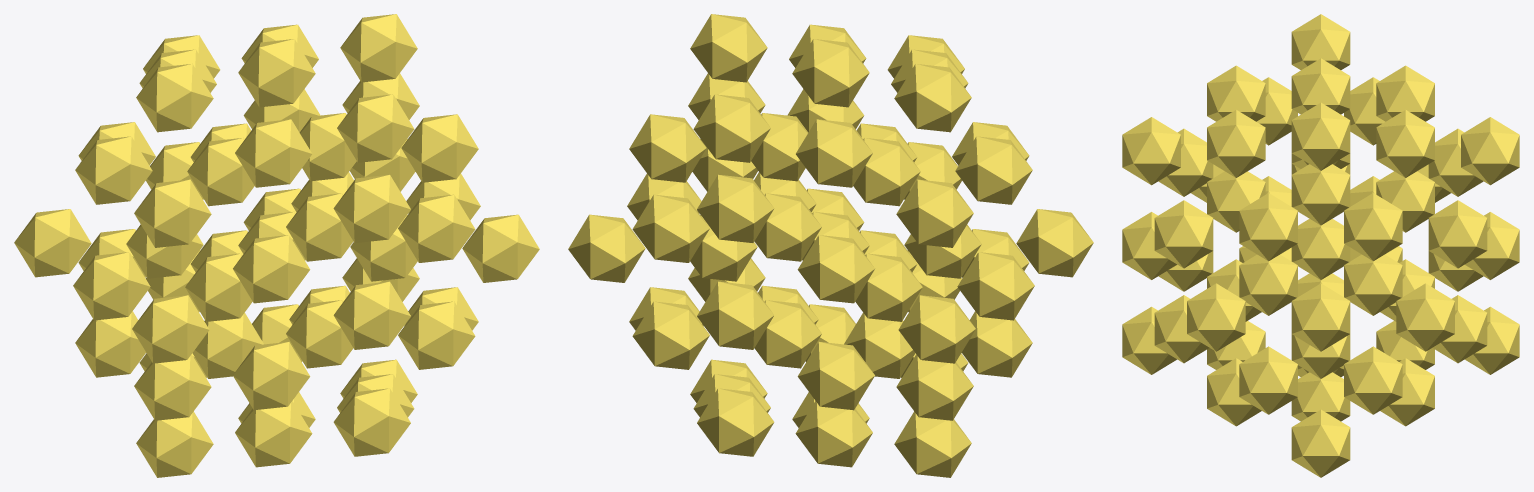
File: au_nanoparticle.glb
3 renders of one model, left to right at view 1: azimuth 30°, elevation 25°; view 2: azimuth 150°, elevation 25°; view 3: azimuth 270°, elevation 25°, orthographic. The views are drawn at different scales.
Size of the model in its own units: 11.52 by 11.52 by 11.52.
